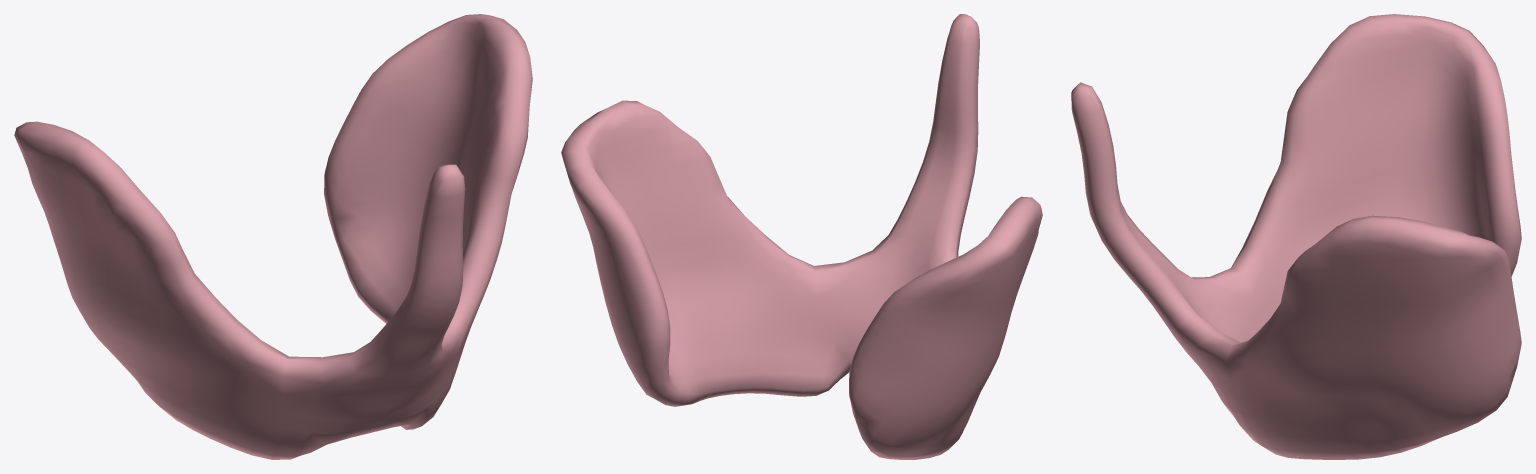
Rendered from tiroide-test.glb.
3 views of the same model, side by side, from view 1: azimuth 30°, elevation 25°; view 2: azimuth 150°, elevation 25°; view 3: azimuth 270°, elevation 25° (orthographic). The views are drawn at different scales.
Visible parts, largest first — view 1: Thyroid gland; view 2: Thyroid gland; view 3: Thyroid gland.
Boxes of the visible parts, left/top/right/bottom form: Thyroid gland: left=14, top=14, right=532, bottom=459; Thyroid gland: left=561, top=14, right=1042, bottom=459; Thyroid gland: left=1071, top=14, right=1521, bottom=459.
Size of the model in its own units: 0.0486 by 0.0341 by 0.0416.
